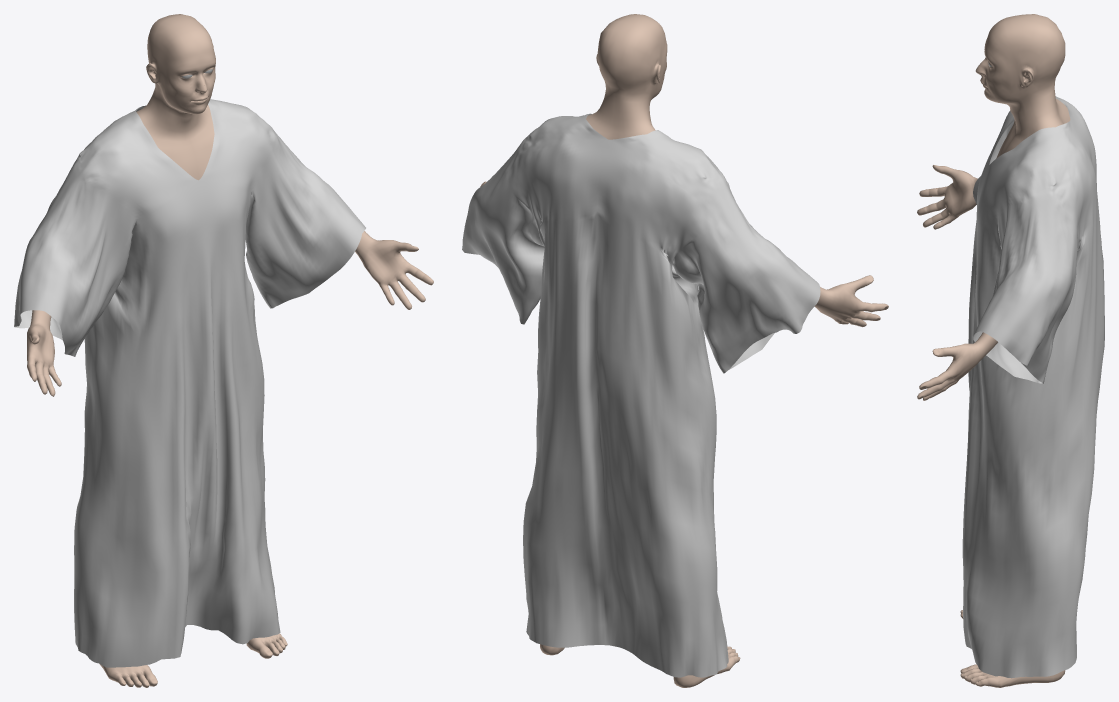
The model's file is monk.fbx.
3 renders of one model, left to right at view 1: azimuth 30°, elevation 25°; view 2: azimuth 150°, elevation 25°; view 3: azimuth 270°, elevation 25°, orthographic.
Visible parts, largest first — view 1: Plane.001, jesus-base; view 2: Plane.001, jesus-base; view 3: Plane.001, jesus-base.
Part boxes in pixels (x1=…): Plane.001: x1=14, y1=99, x2=365, y2=667; jesus-base: x1=27, y1=14, x2=433, y2=687; Plane.001: x1=462, y1=113, x2=820, y2=677; jesus-base: x1=480, y1=14, x2=888, y2=687; Plane.001: x1=962, y1=96, x2=1104, y2=678; jesus-base: x1=917, y1=14, x2=1070, y2=687.
Size of the model in its own units: 121 by 182 by 49.23.
